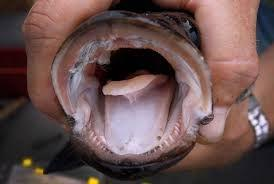Snakehead: (45, 5, 211, 172)
